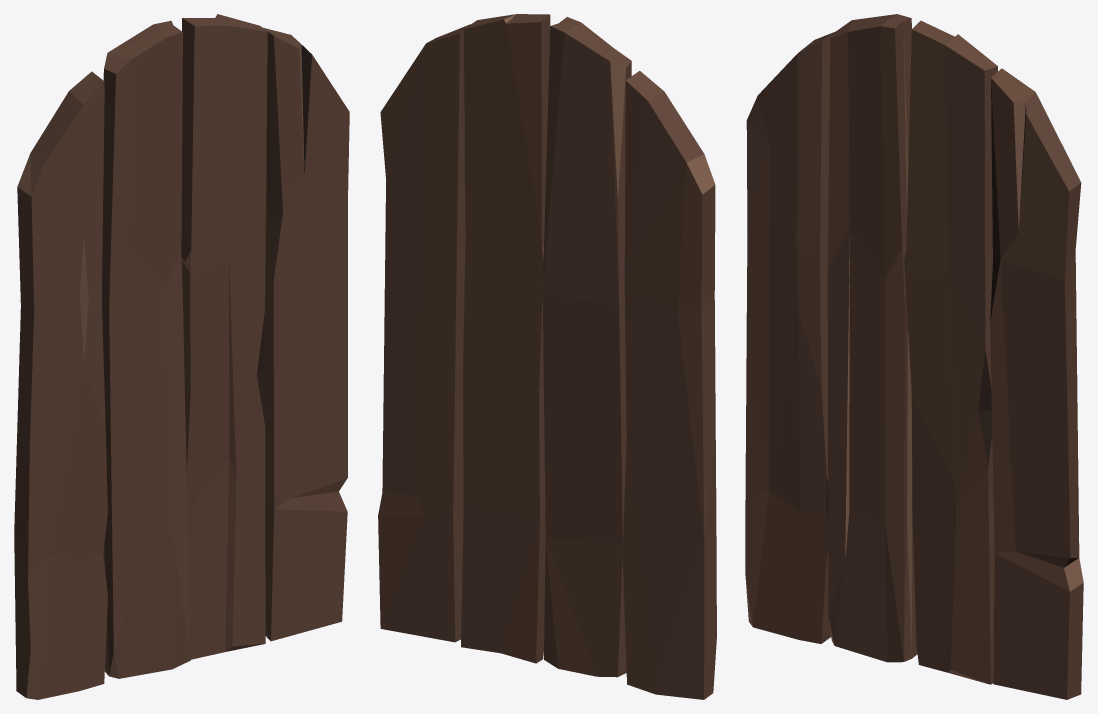
The model's file is Door_Pirates.glb.
3 renders of one model, left to right at view 1: azimuth 30°, elevation 25°; view 2: azimuth 150°, elevation 25°; view 3: azimuth 330°, elevation 25°, orthographic.
Parts seen in each view (by area): view 1: TableWood_01; view 2: TableWood_01; view 3: TableWood_01.
Part boxes in pixels (x1,y1,x2,y2): TableWood_01: (14,14,349,699); TableWood_01: (378,14,716,699); TableWood_01: (745,14,1083,699).
Size of what is drawn, in the model's own units: 1.7 by 3.22 by 0.1686.
Materials: 1 (1 with a texture image).
